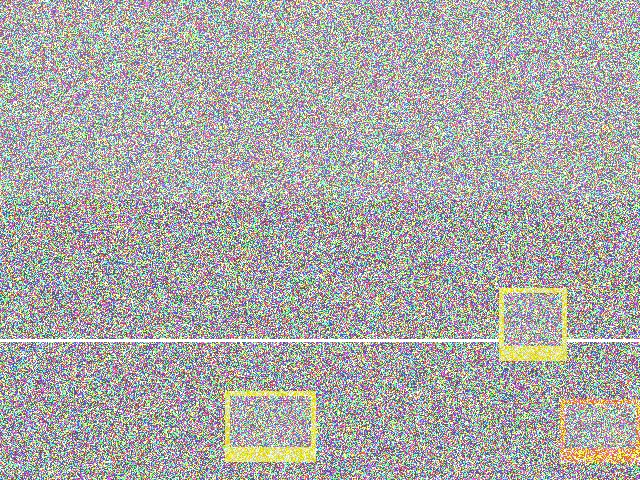bus: (291, 317, 440, 389)
truck: (482, 227, 614, 335)
